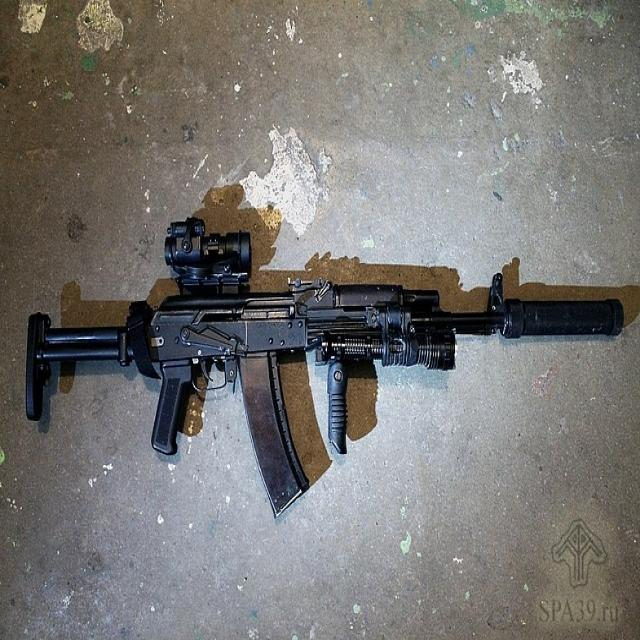firearm: (23, 216, 627, 524)
